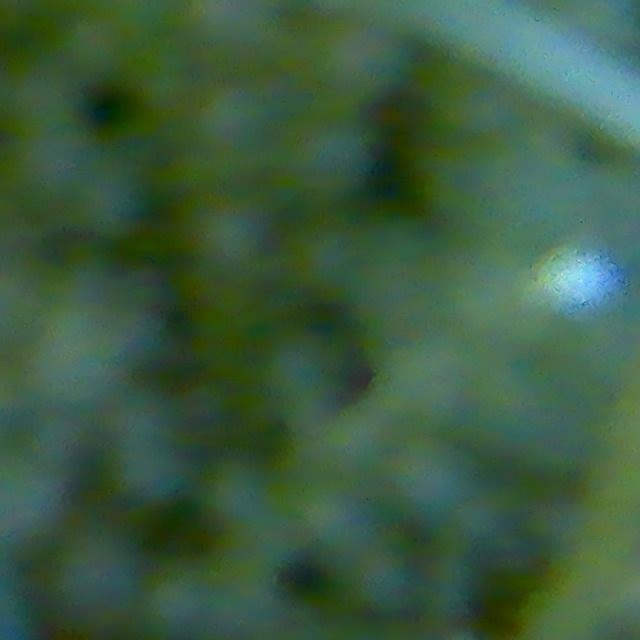SeaGrape: (295, 19, 395, 113), (50, 528, 145, 625), (283, 119, 372, 206), (51, 319, 142, 402), (0, 461, 72, 554), (192, 194, 271, 276), (186, 0, 265, 77)
